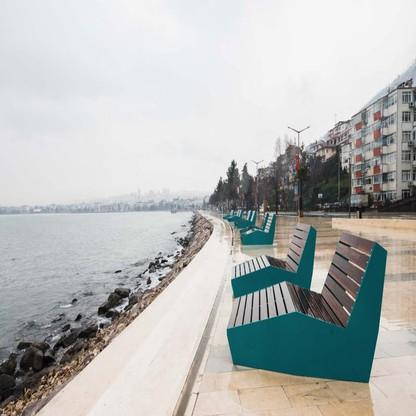obstacle: (228, 232, 392, 395)
